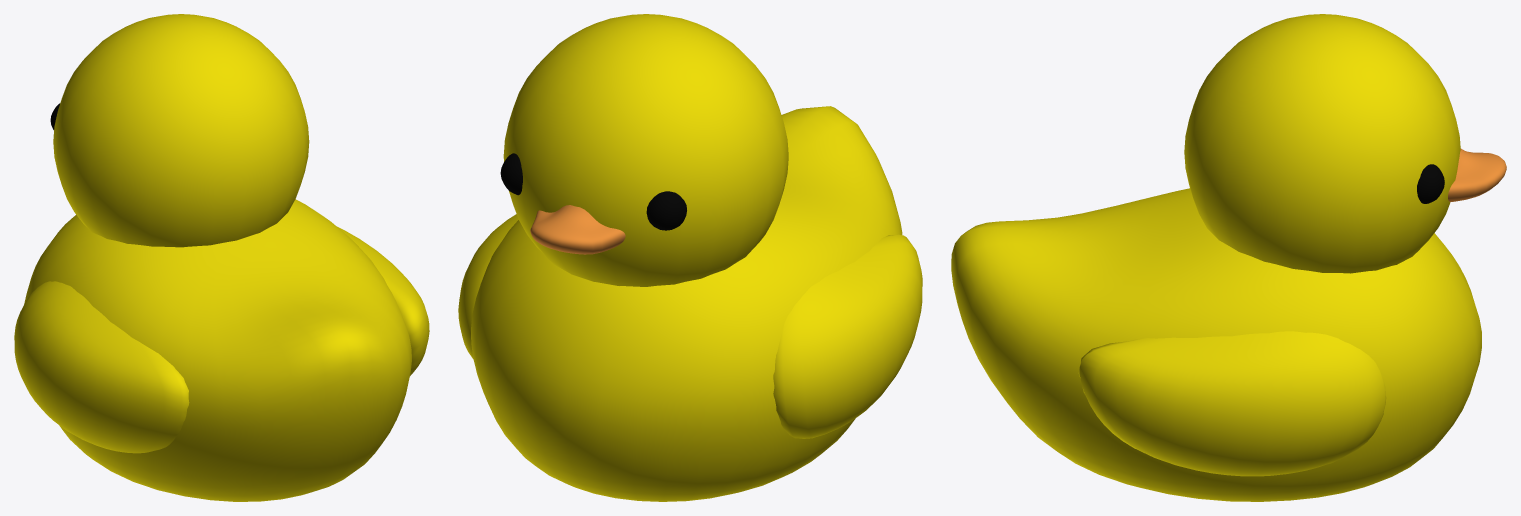
The model's file is Duck.fbx.
The picture shows the model from 3 angles, left to right: view 1: azimuth 30°, elevation 25°; view 2: azimuth 150°, elevation 25°; view 3: azimuth 270°, elevation 25°; orthographic projection. The views are drawn at different scales.
Parts seen in each view (by area): view 1: Duck; view 2: Duck; view 3: Duck.
Part boxes in pixels (box(x1,y1,x2,y2)): Duck: box(14, 14, 429, 501); Duck: box(458, 14, 922, 501); Duck: box(951, 14, 1506, 501).
Bounding box in the file's own units: 26.07 × 28.06 × 32.78.
